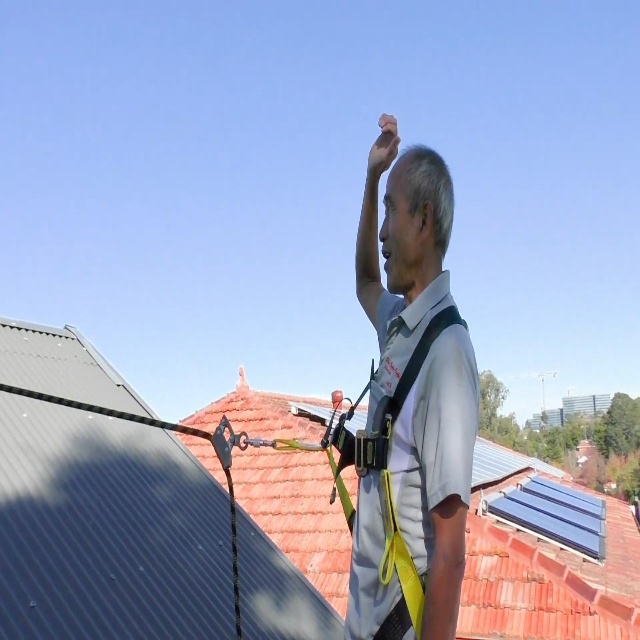Arnes_seguridad: (305, 289, 474, 640)
